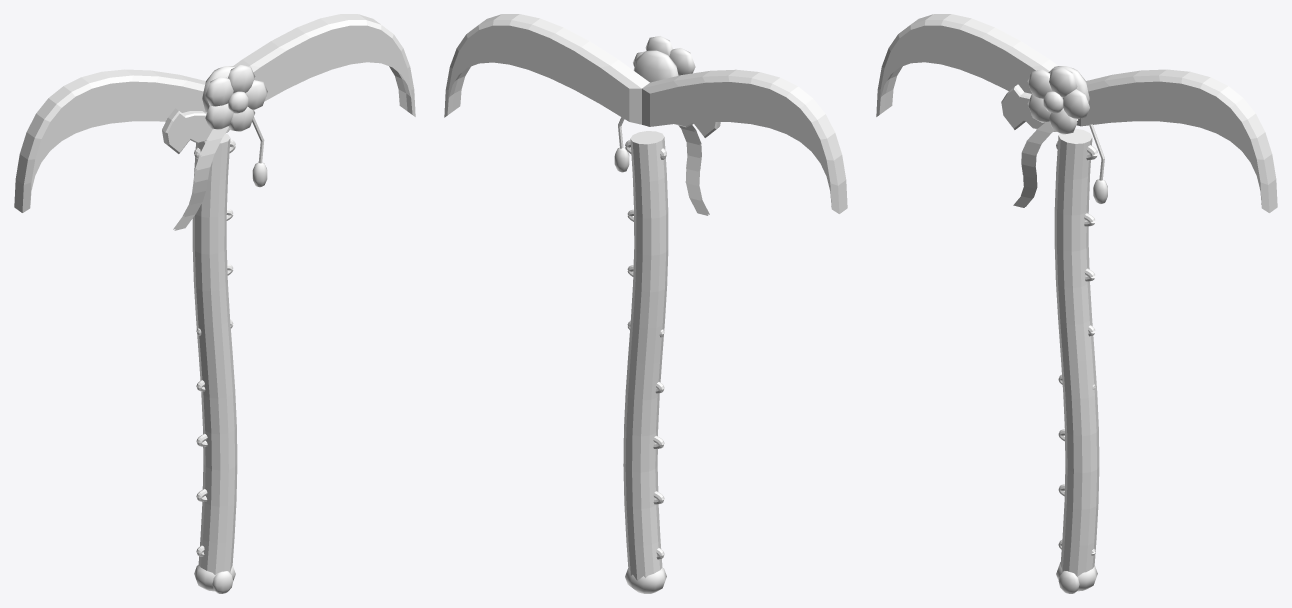
The model's file is pickaxe.obj.
The picture shows the model from 3 angles, left to right: view 1: azimuth 30°, elevation 25°; view 2: azimuth 150°, elevation 25°; view 3: azimuth 330°, elevation 25°; orthographic projection.
Size of the model in its own units: 0.6667 by 0.8768 by 0.1047.
